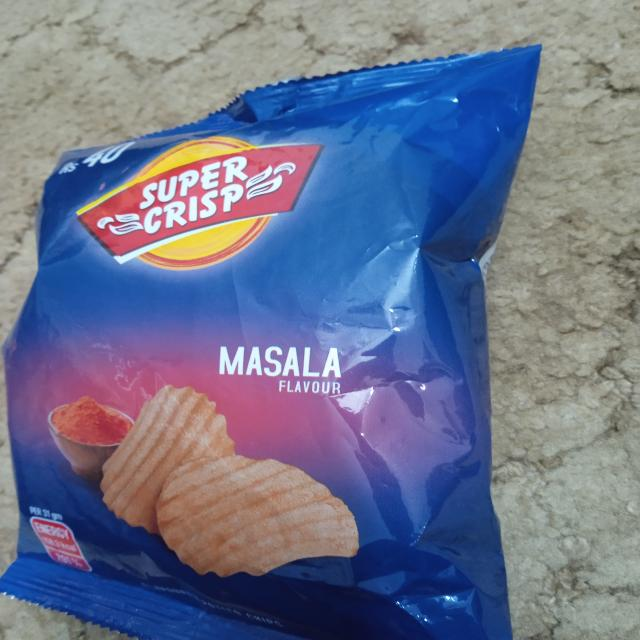Plastic: (0, 49, 548, 629)
